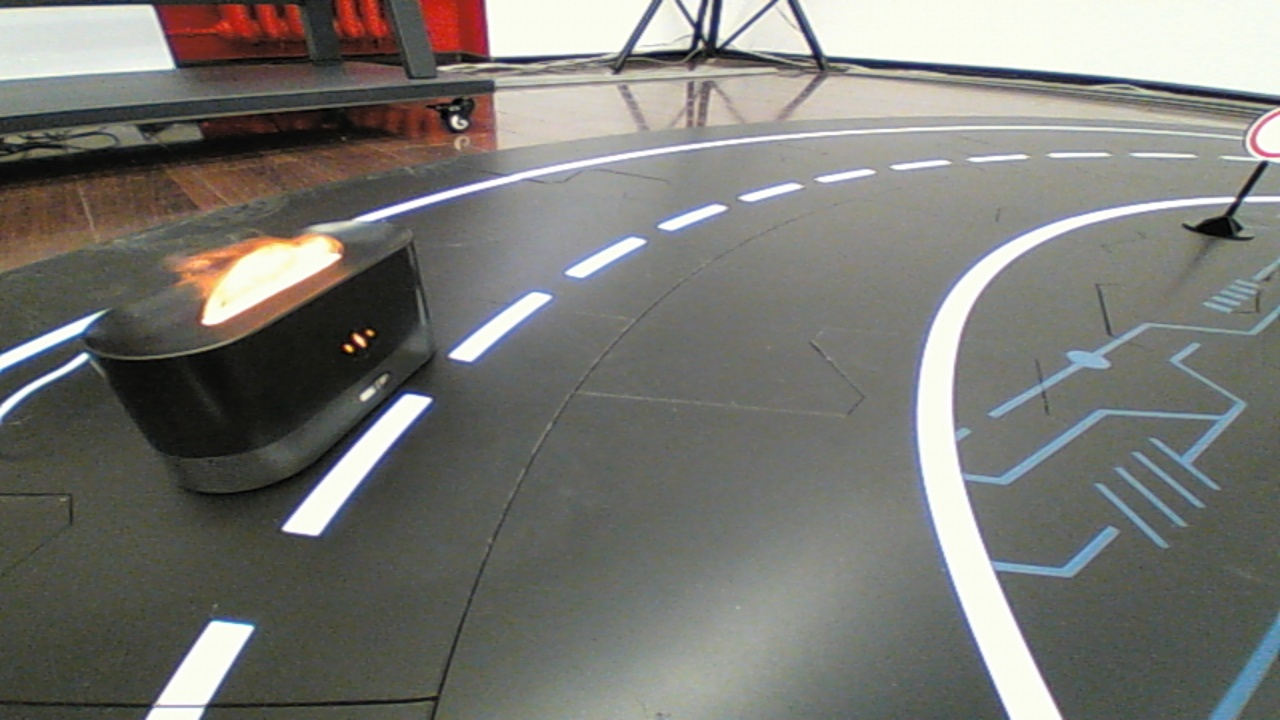Movement prohibition: (49, 203, 468, 512)
